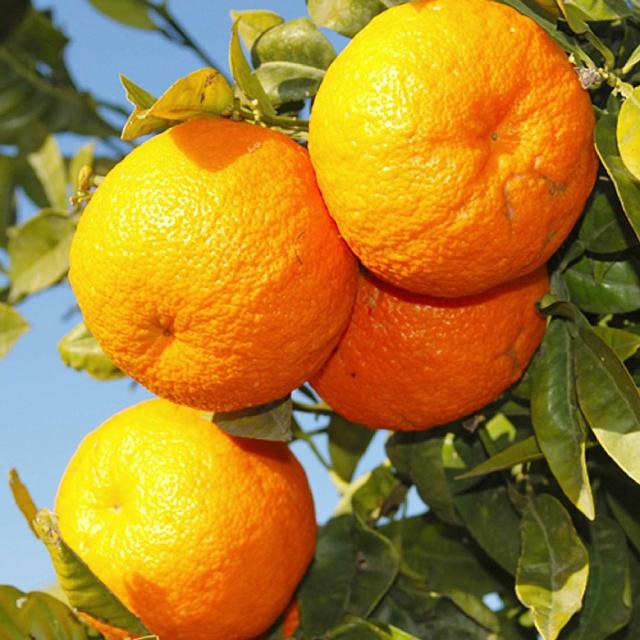Orange: (68, 113, 358, 412), (316, 0, 604, 290), (55, 401, 317, 640)
